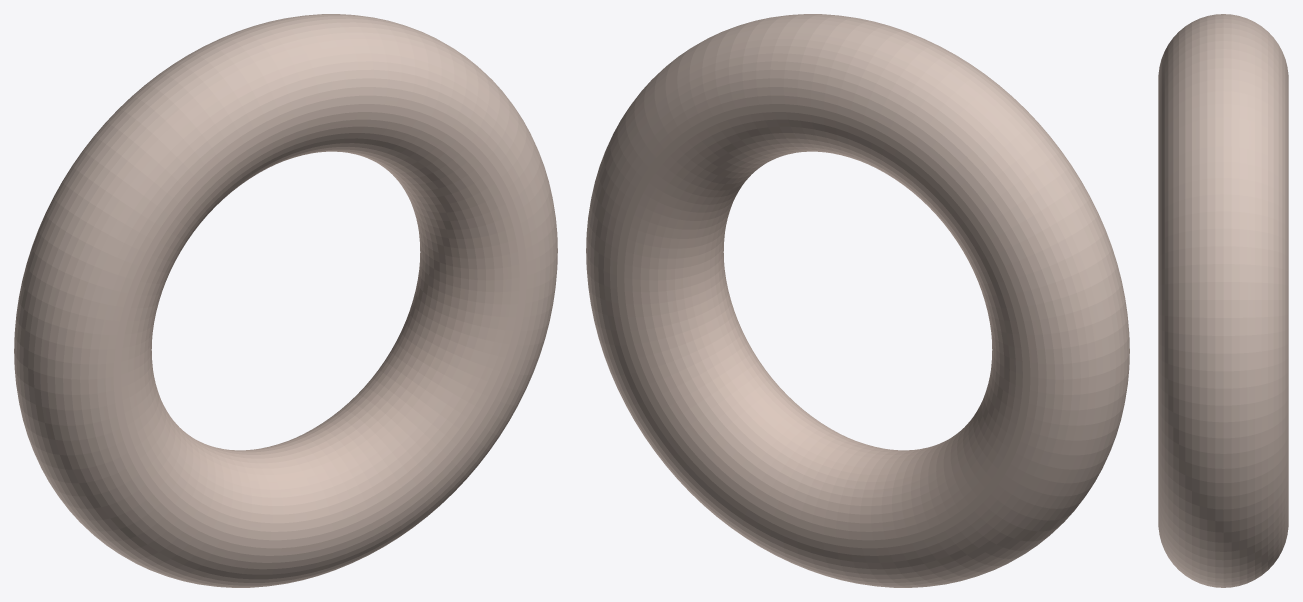
3 views of the same model, side by side, from view 1: azimuth 30°, elevation 25°; view 2: azimuth 150°, elevation 25°; view 3: azimuth 270°, elevation 25° (orthographic). The views are drawn at different scales.
Parts seen in each view (by area): view 1: world; view 2: world; view 3: world.
Boxes of the visible parts, x1,y1,x2,y2 form: world: (14, 14, 557, 587); world: (586, 14, 1129, 587); world: (1158, 14, 1288, 587).
Size of the model in its own units: 27.6 by 27.6 by 6.25.
